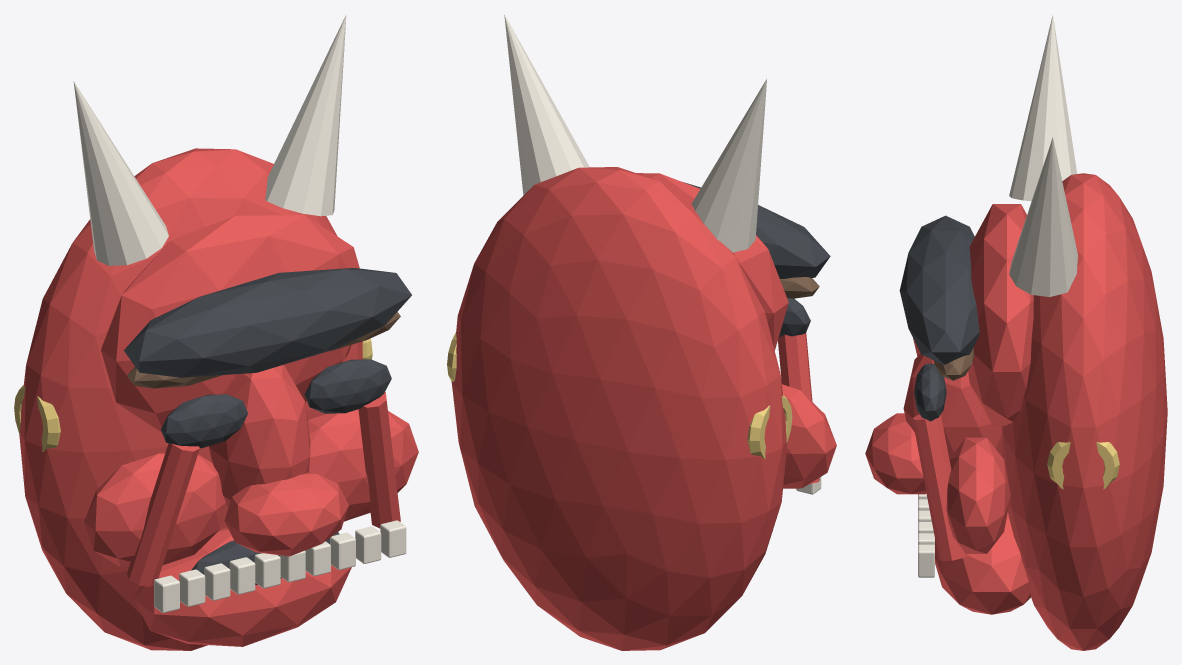
File: buyo_folk_oni_mask.glb
3 views of the same model, side by side, from view 1: azimuth 30°, elevation 25°; view 2: azimuth 150°, elevation 25°; view 3: azimuth 270°, elevation 25° (orthographic). The views are drawn at different scales.
Visible parts, largest first — view 1: Folk festival carved fox or oni mask substantial face blank, Brutal oni wide brow, Folk festival carved fox or oni mask sculpted forehead, Folk festival carved fox or oni mask chin, Folk festival carved fox or oni mask carved cheek, Folk festival carved fox or oni mask nose bridge, Folk festival carved fox or oni mask curving oni horn.001, Folk festival carved fox or oni mask curving oni horn, Folk festival carved fox or oni mask nasal tip, Folk festival carved fox or oni mask carved cheek.001, Folk festival carved fox or oni mask angry cheek ink, Folk festival carved fox or oni mask angry cheek ink.001 (+15 smaller); view 2: Folk festival carved fox or oni mask substantial face blank, Folk festival carved fox or oni mask curving oni horn, Folk festival carved fox or oni mask curving oni horn.001, Folk festival carved fox or oni mask carved cheek, Brutal oni wide brow, Folk festival carved fox or oni mask sculpted forehead, Folk festival carved fox or oni mask angry cheek ink, Folk festival carved fox or oni mask ear hook, Folk festival carved fox or oni mask hollow eye, Folk festival carved fox or oni mask raised eyebrow; view 3: Folk festival carved fox or oni mask substantial face blank, Folk festival carved fox or oni mask sculpted forehead, Brutal oni wide brow, Folk festival carved fox or oni mask curving oni horn.001, Folk festival carved fox or oni mask carved cheek.001, Folk festival carved fox or oni mask curving oni horn, Folk festival carved fox or oni mask chin, Folk festival carved fox or oni mask nose bridge, Folk festival carved fox or oni mask angry cheek ink.001, Folk festival carved fox or oni mask nasal tip, Folk festival carved fox or oni mask hollow eye.001, Folk festival carved fox or oni mask ear hook.001 (+2 smaller).
Part boxes in pixels (left/top/right/bottom): Folk festival carved fox or oni mask substantial face blank: left=19, top=148, right=362, bottom=650; Brutal oni wide brow: left=124, top=268, right=411, bottom=377; Folk festival carved fox or oni mask sculpted forehead: left=101, top=215, right=359, bottom=432; Folk festival carved fox or oni mask chin: left=134, top=527, right=351, bottom=646; Folk festival carved fox or oni mask carved cheek: left=84, top=452, right=227, bottom=567; Folk festival carved fox or oni mask nose bridge: left=209, top=364, right=310, bottom=509; Folk festival carved fox or oni mask curving oni horn.001: left=265, top=15, right=346, bottom=216; Folk festival carved fox or oni mask curving oni horn: left=73, top=81, right=168, bottom=265; Folk festival carved fox or oni mask nasal tip: left=224, top=472, right=348, bottom=556; Folk festival carved fox or oni mask carved cheek.001: left=307, top=409, right=418, bottom=521; Folk festival carved fox or oni mask angry cheek ink: left=127, top=443, right=199, bottom=586; Folk festival carved fox or oni mask angry cheek ink.001: left=358, top=392, right=400, bottom=528; Folk festival carved fox or oni mask substantial face blank: left=451, top=167, right=787, bottom=650; Folk festival carved fox or oni mask curving oni horn: left=691, top=79, right=766, bottom=252; Folk festival carved fox or oni mask curving oni horn.001: left=504, top=14, right=589, bottom=195; Folk festival carved fox or oni mask carved cheek: left=782, top=384, right=836, bottom=488; Brutal oni wide brow: left=683, top=182, right=830, bottom=278; Folk festival carved fox or oni mask sculpted forehead: left=636, top=173, right=788, bottom=350; Folk festival carved fox or oni mask angry cheek ink: left=778, top=333, right=819, bottom=483; Folk festival carved fox or oni mask ear hook: left=747, top=394, right=792, bottom=458; Folk festival carved fox or oni mask hollow eye: left=778, top=298, right=810, bottom=337; Folk festival carved fox or oni mask raised eyebrow: left=780, top=277, right=819, bottom=298; Folk festival carved fox or oni mask substantial face blank: left=1001, top=173, right=1167, bottom=650; Folk festival carved fox or oni mask sculpted forehead: left=968, top=204, right=1033, bottom=425; Brutal oni wide brow: left=899, top=215, right=979, bottom=364; Folk festival carved fox or oni mask curving oni horn.001: left=1009, top=137, right=1077, bottom=296; Folk festival carved fox or oni mask carved cheek.001: left=946, top=437, right=1010, bottom=553; Folk festival carved fox or oni mask curving oni horn: left=1009, top=14, right=1077, bottom=201; Folk festival carved fox or oni mask chin: left=935, top=512, right=1030, bottom=614; Folk festival carved fox or oni mask nose bridge: left=903, top=353, right=1001, bottom=458; Folk festival carved fox or oni mask angry cheek ink.001: left=912, top=414, right=967, bottom=561; Folk festival carved fox or oni mask nasal tip: left=865, top=413, right=926, bottom=494; Folk festival carved fox or oni mask hollow eye.001: left=914, top=363, right=946, bottom=421; Folk festival carved fox or oni mask ear hook.001: left=1047, top=442, right=1119, bottom=489.
Size of the model in its own units: 1.1 by 1.92 by 0.9282.
